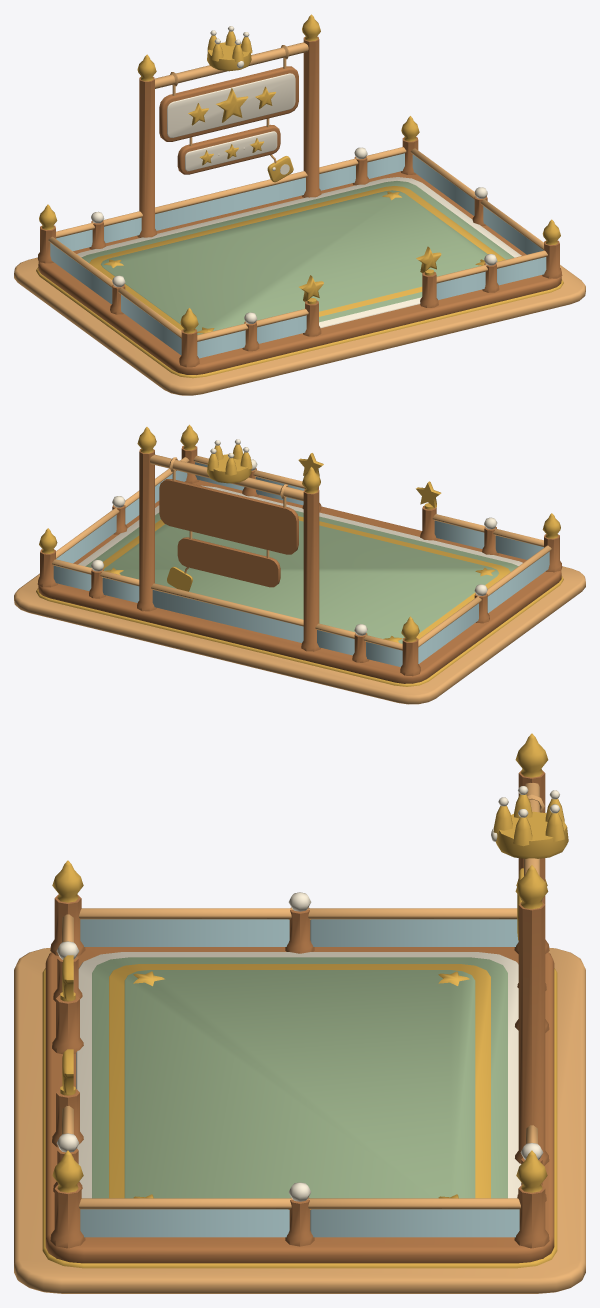
The model's file is ShopShowcaseL3.fbx.
The picture shows the model from 3 angles, top to bottom: view 1: azimuth 30°, elevation 25°; view 2: azimuth 150°, elevation 25°; view 3: azimuth 270°, elevation 25°; orthographic projection. The views are drawn at different scales.
Visible parts, largest first — view 1: ShopShowcaseL3; view 2: ShopShowcaseL3; view 3: ShopShowcaseL3.
Part boxes in pixels (x1=…): ShopShowcaseL3: x1=14, y1=14, x2=585, y2=395; ShopShowcaseL3: x1=14, y1=424, x2=585, y2=704; ShopShowcaseL3: x1=14, y1=733, x2=585, y2=1293.
Size of the model in its own units: 5 by 2.29 by 3.6.
